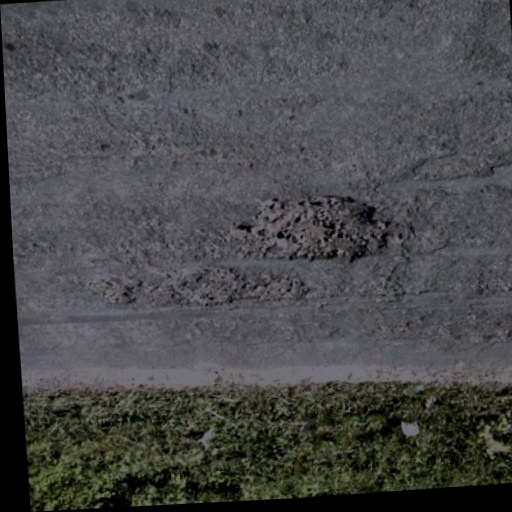pothole: (242, 187, 401, 272), (154, 261, 313, 313), (82, 271, 147, 309)
